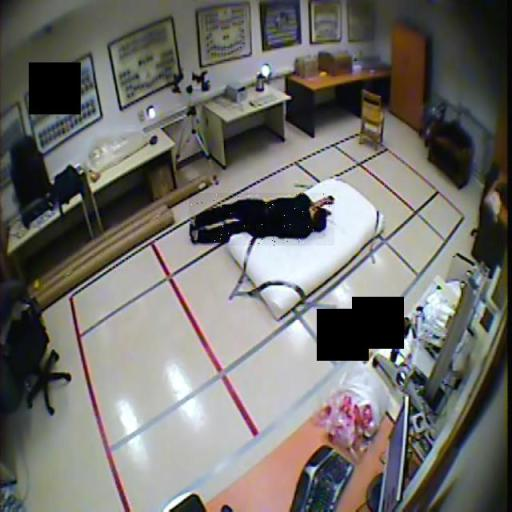Fall: (189, 193, 334, 246)
